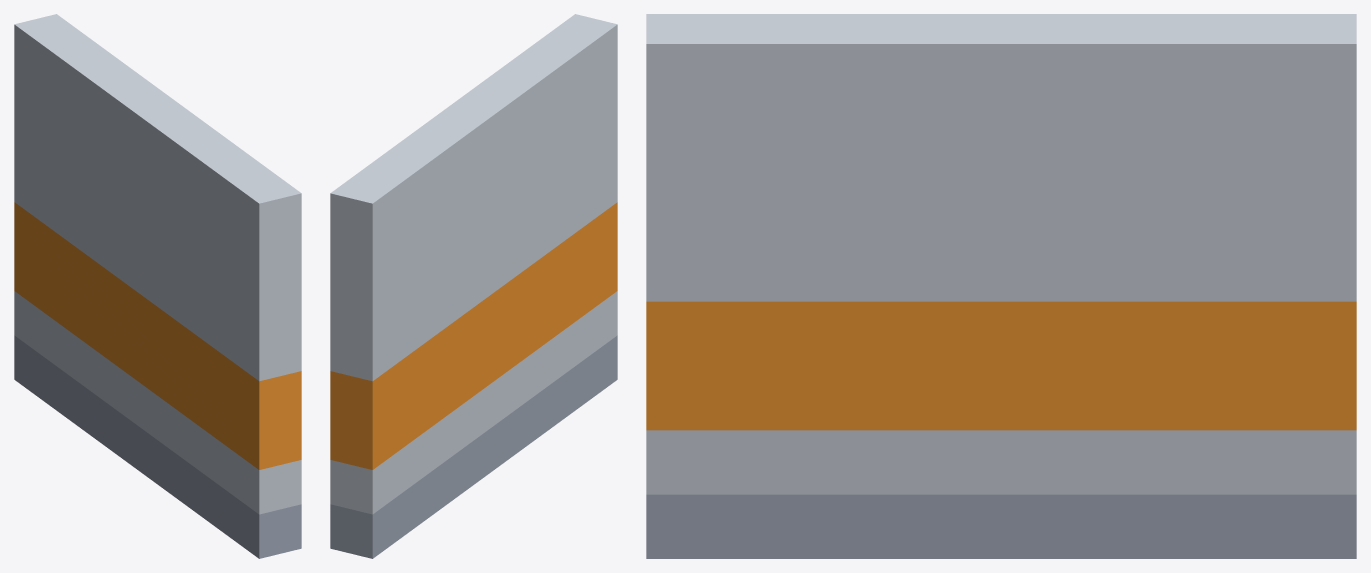
The model's file is wall.obj.
3 views of the same model, side by side, from view 1: azimuth 30°, elevation 25°; view 2: azimuth 150°, elevation 25°; view 3: azimuth 270°, elevation 25° (orthographic). The views are drawn at different scales.
Parts seen in each view (by area): view 1: corridor_wall; view 2: corridor_wall; view 3: corridor_wall.
Part boxes in pixels (x1=…): corridor_wall: x1=14, y1=14, x2=301, y2=558; corridor_wall: x1=330, y1=14, x2=617, y2=558; corridor_wall: x1=646, y1=14, x2=1356, y2=558.
Size of the model in its own units: 0.1 by 0.8 by 1.
